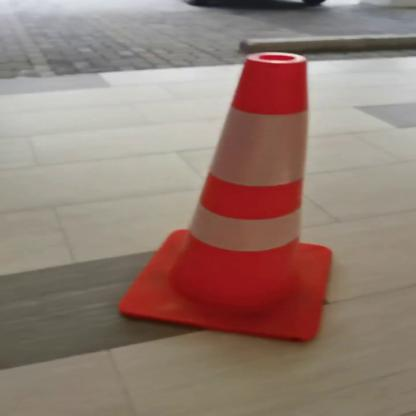cone: (114, 41, 365, 347)
